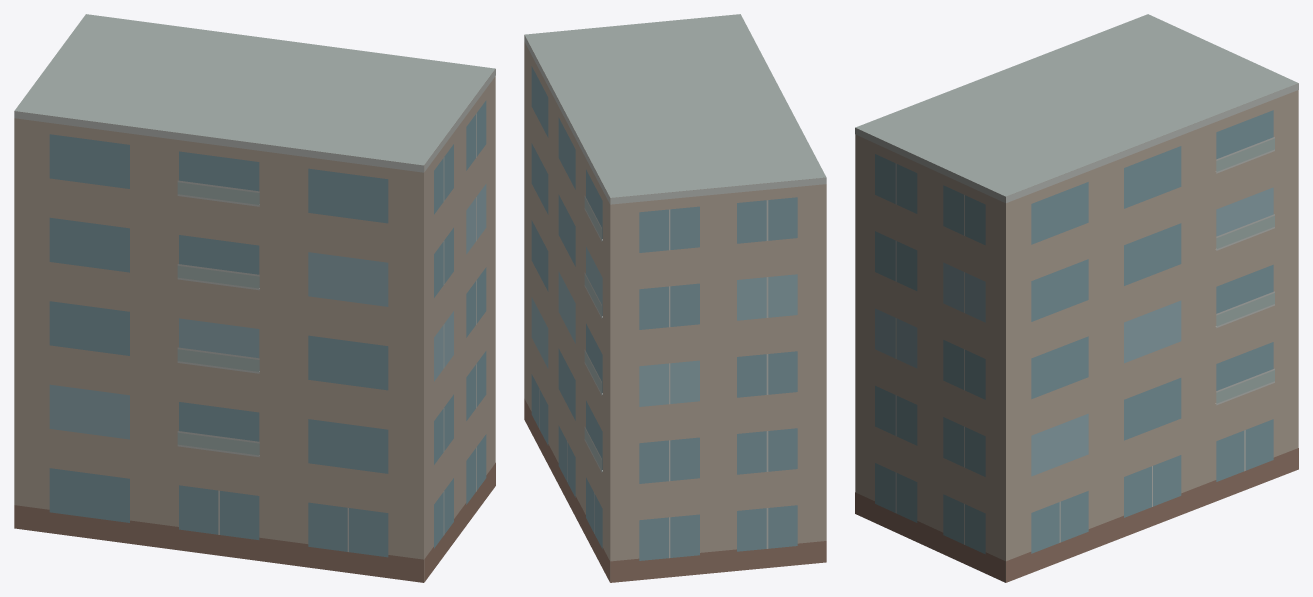
Rendered from survey-upis-32995849.glb.
3 renders of one model, left to right at view 1: azimuth 30°, elevation 25°; view 2: azimuth 150°, elevation 25°; view 3: azimuth 270°, elevation 25°, orthographic. The views are drawn at different scales.
Visible parts, largest first — view 1: survey-upis-32995849.tmp; view 2: survey-upis-32995849.tmp; view 3: survey-upis-32995849.tmp.
Part boxes in pixels (x1,y1,x2,y2): survey-upis-32995849.tmp: [14, 14, 495, 582]; survey-upis-32995849.tmp: [524, 14, 826, 582]; survey-upis-32995849.tmp: [855, 14, 1298, 582].
Size of the model in its own units: 14.31 by 14.1 by 14.69.
